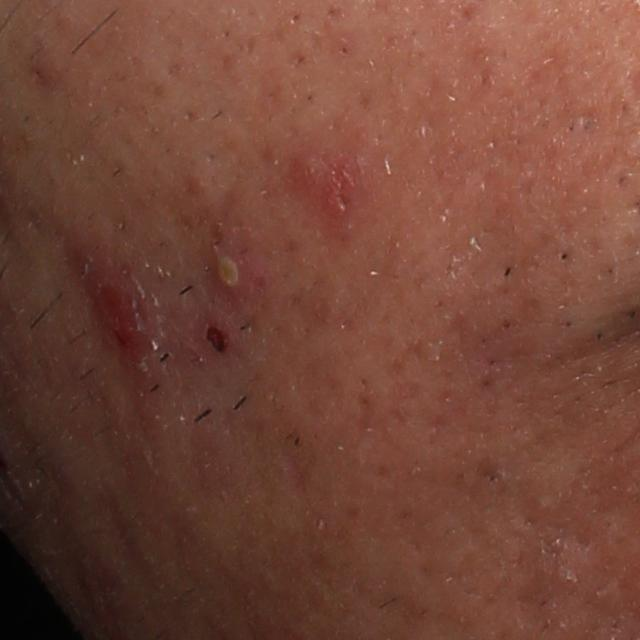papule: (92, 241, 152, 367)
pustule: (205, 252, 252, 299)
